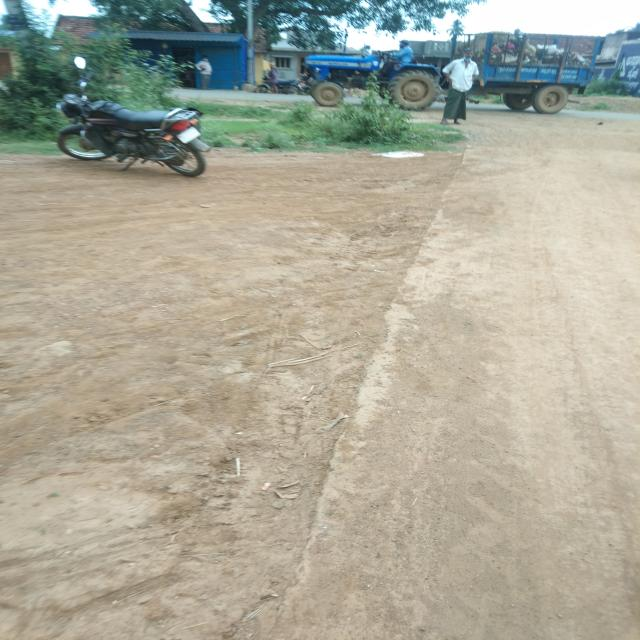Bike: (48, 44, 221, 181)
Tractor: (281, 44, 590, 118)
